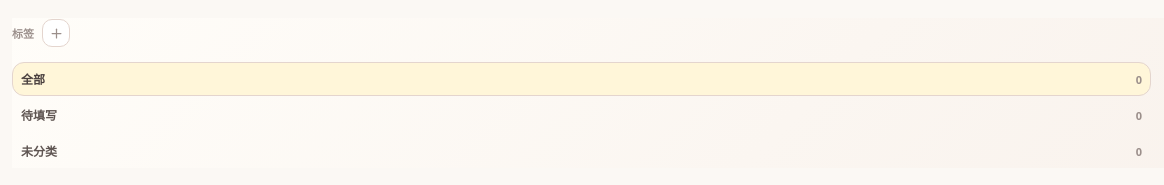
Test: outfit workspace components › closes the tag popover when the user clicks outside it
The image size is (1164, 185).
Click the button with class "outfit-add-tag-toggle".
click(56, 33)  # box [42,19,70,47]
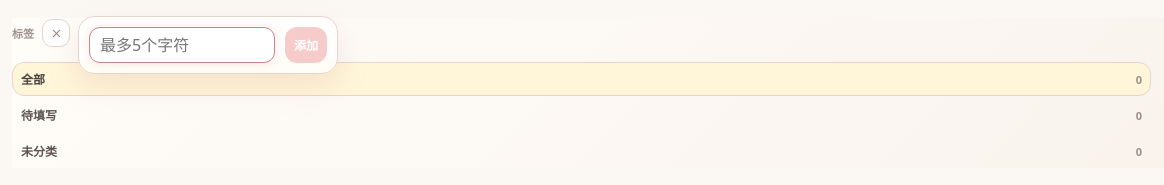
Check: the form with class "outfit-tag-editor-popover" is shown, box [78,16,338,74]
Press the mouse on the element showing "标签 全部 0 待填写 0 未分类 0" at (588, 93), box [12,18,1163,168]
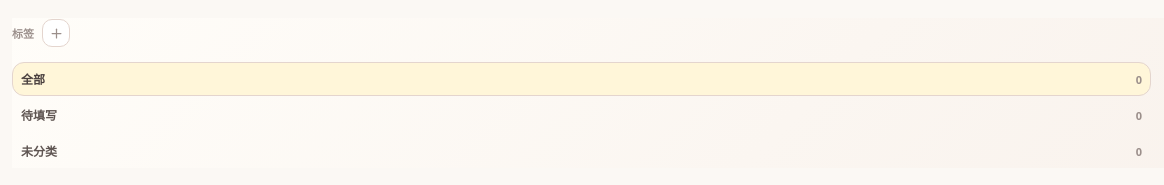
Check: the form with class "outfit-tag-editor-popover" is gone
